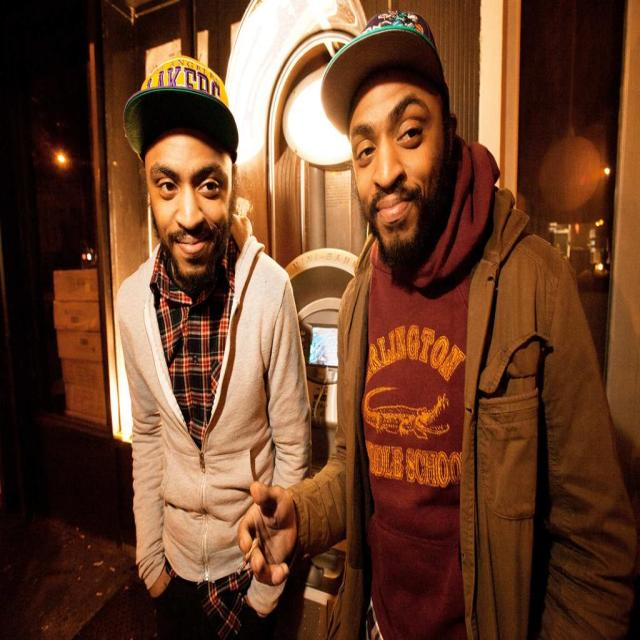smoking: (236, 8, 469, 590)
